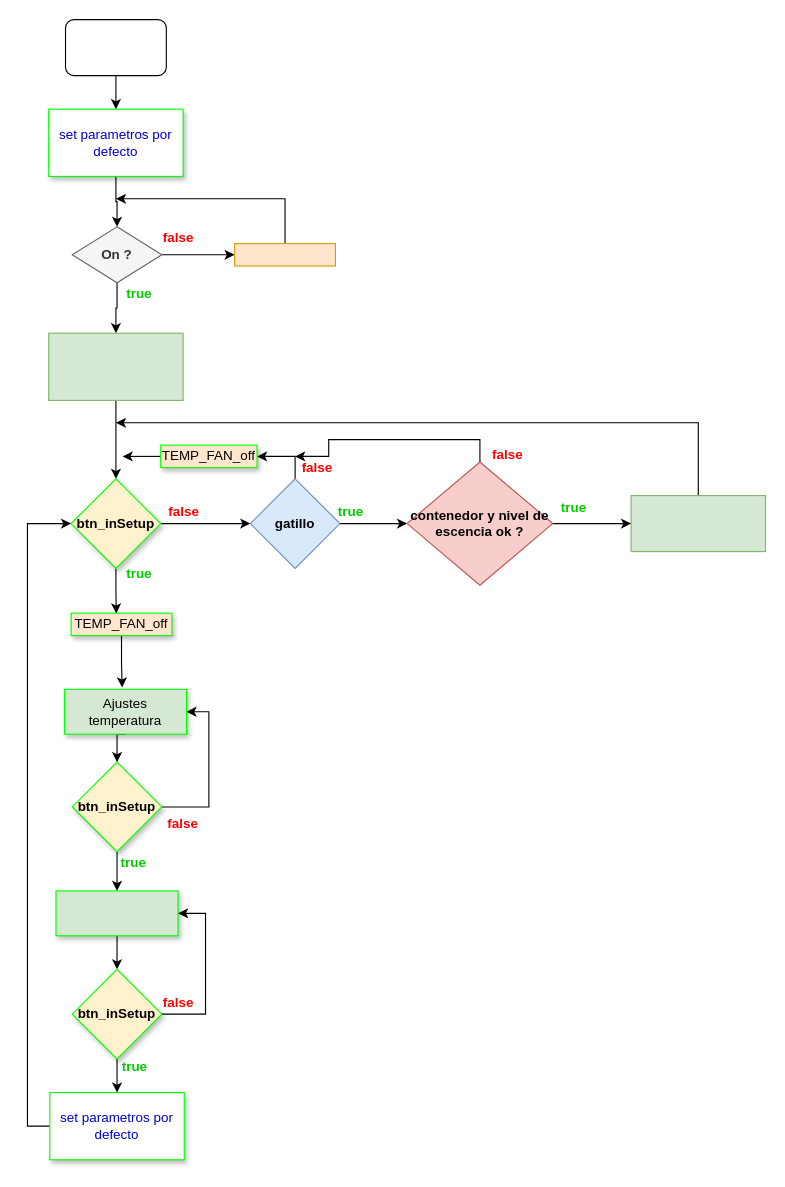
This 785x1187 diagram has some shape labels left out. The centre of each missing label's shape, as x and y in pixels:
"Activa ventilador y calefacción, según parámatros" goes at [698,523].
"Ajustes Caudal" goes at [117,914].
"INICIO" goes at [115,47].
"Muestra Panel frontal" goes at [115,366].
"Todo apagado" goes at [284,254].
